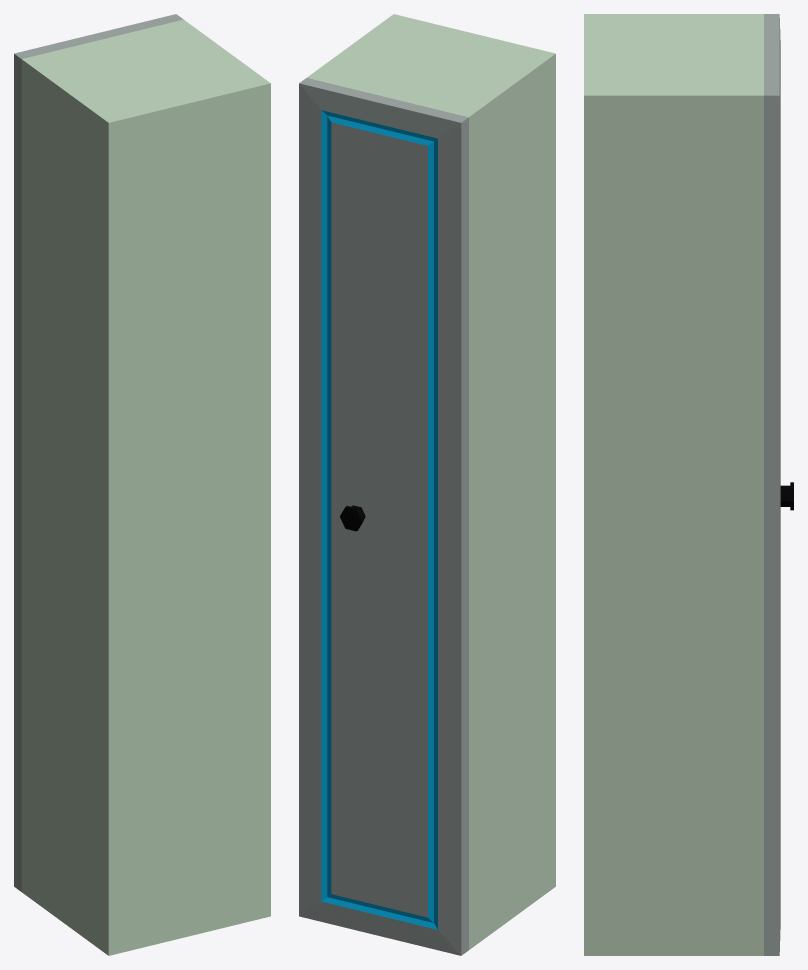
Rendered from Dolap-Kapaksız.fbx.
3 views of the same model, side by side, from view 1: azimuth 30°, elevation 25°; view 2: azimuth 150°, elevation 25°; view 3: azimuth 270°, elevation 25° (orthographic). The views are drawn at different scales.
Parts seen in each view (by area): view 1: dolap; view 2: dolap; view 3: dolap.
Boxes of the visible parts, left/top/right/bottom form: dolap: left=14, top=14, right=270, bottom=955; dolap: left=299, top=14, right=555, bottom=955; dolap: left=584, top=14, right=793, bottom=955.
Bounding box in the file's own units: 200 × 981 × 217.
